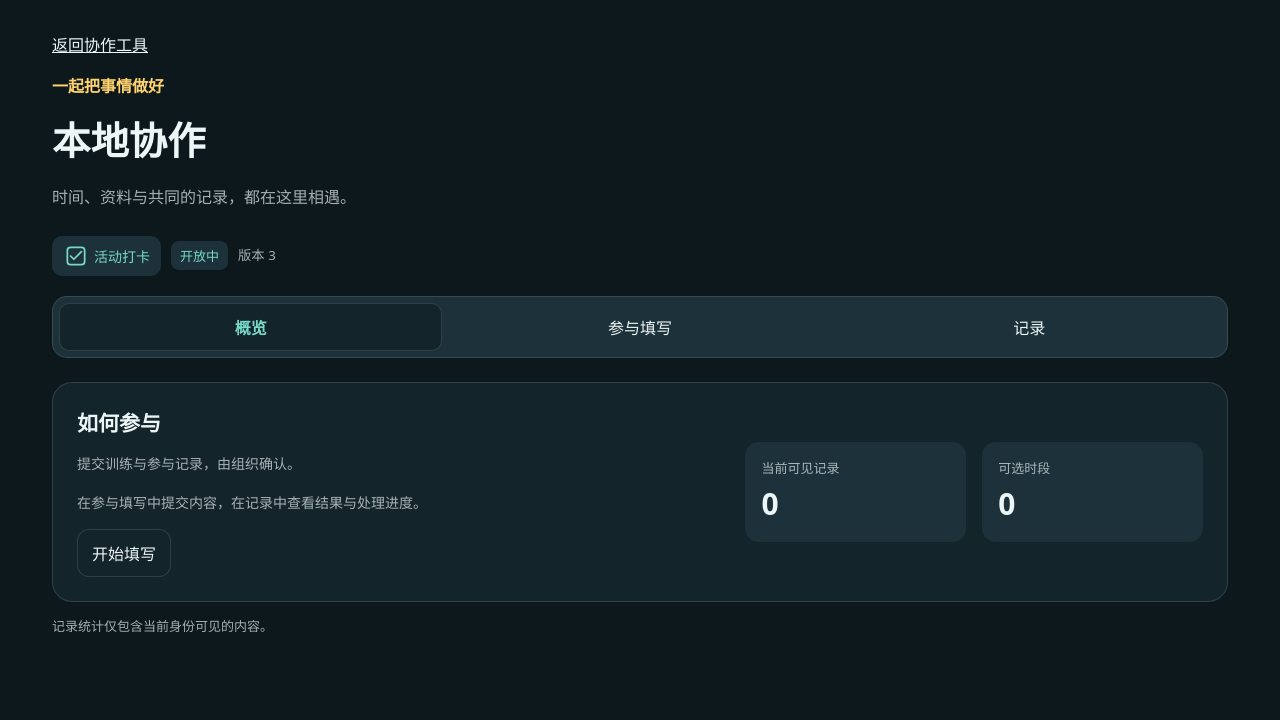
preserves participant draft across tabs and a failed submission, and keeps manager settings private
The width and height of the screenshot is (1280, 720).
Click the tab "参与填写": (640, 326) [448,302,832,350]
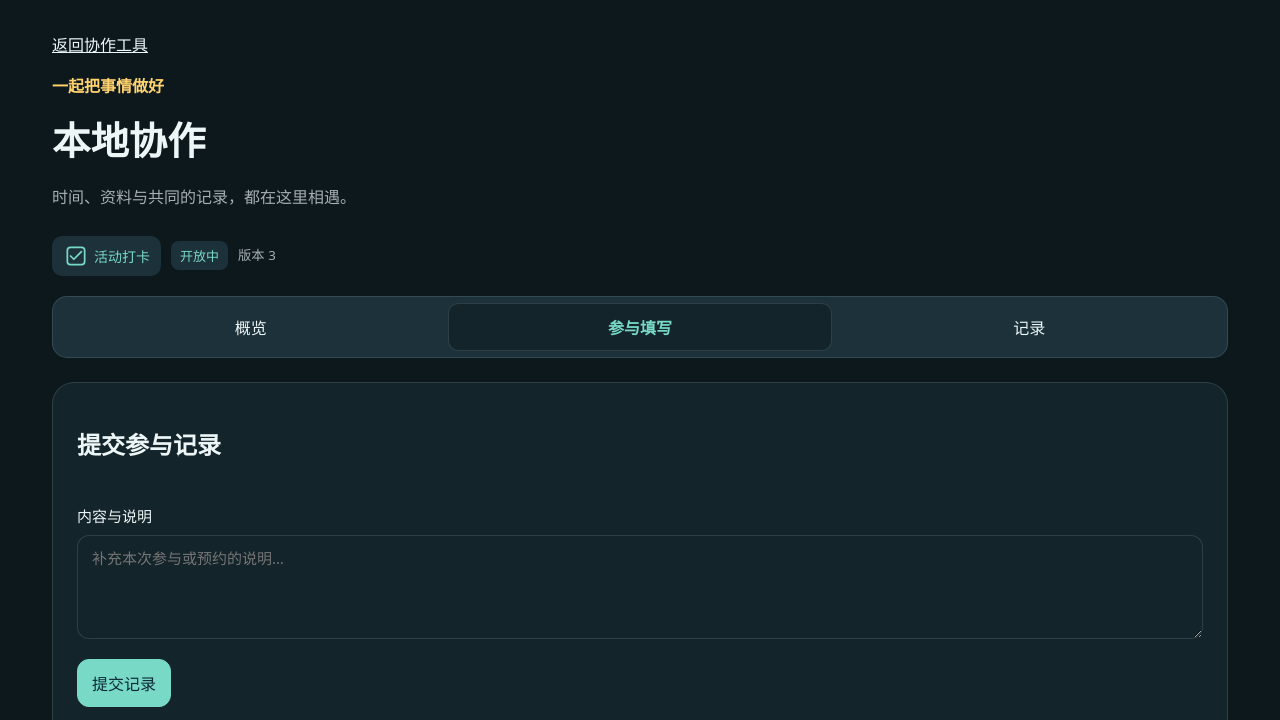
In the text box labelled "内容与说明": (640, 587) [77,535,1203,639], type "还未提交的草稿"
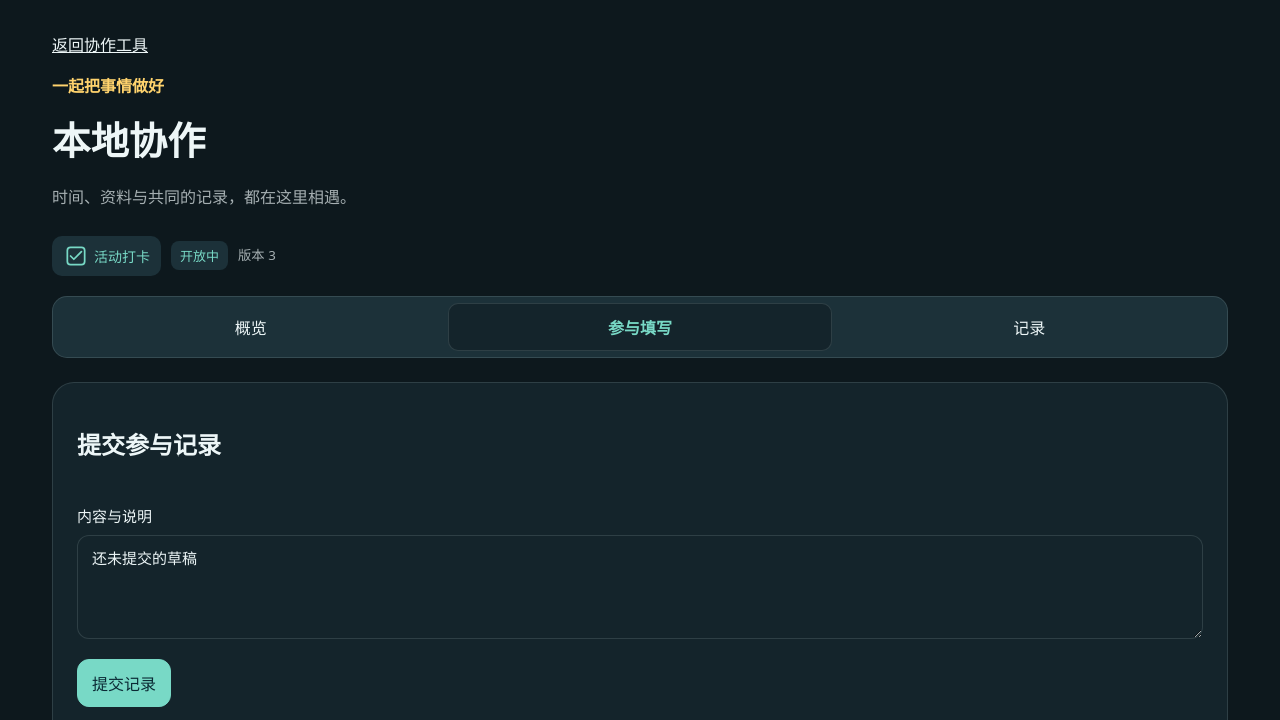
Click the tab "记录": (1029, 326) [838,302,1221,350]
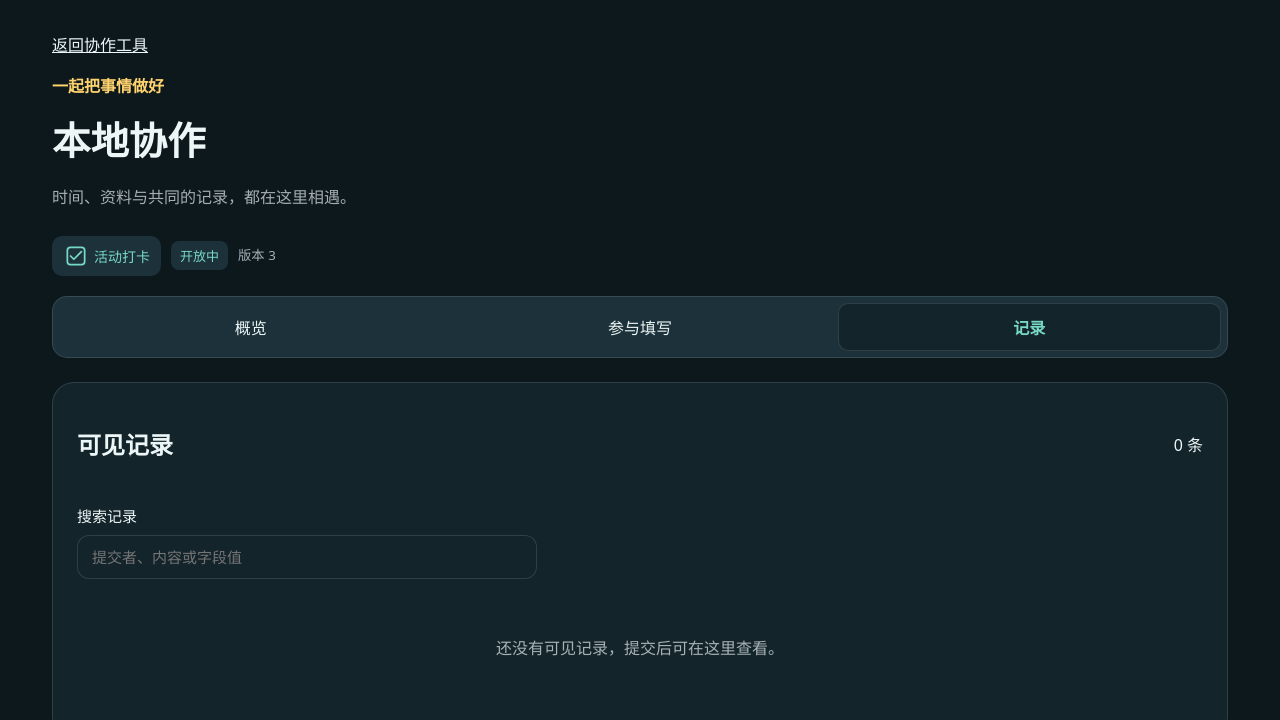
Click the tab "参与填写": (640, 326) [448,302,832,350]
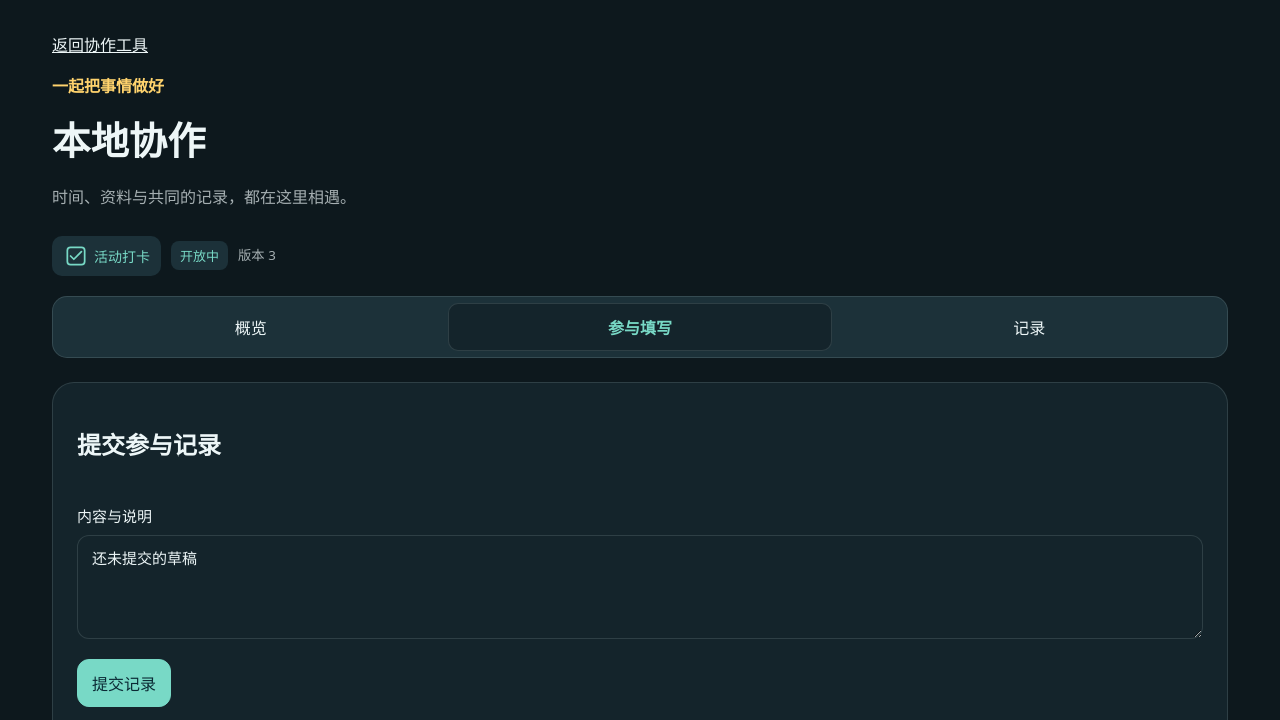
Click the button "提交记录": (124, 683) [77,659,171,707]
(page scrolled)
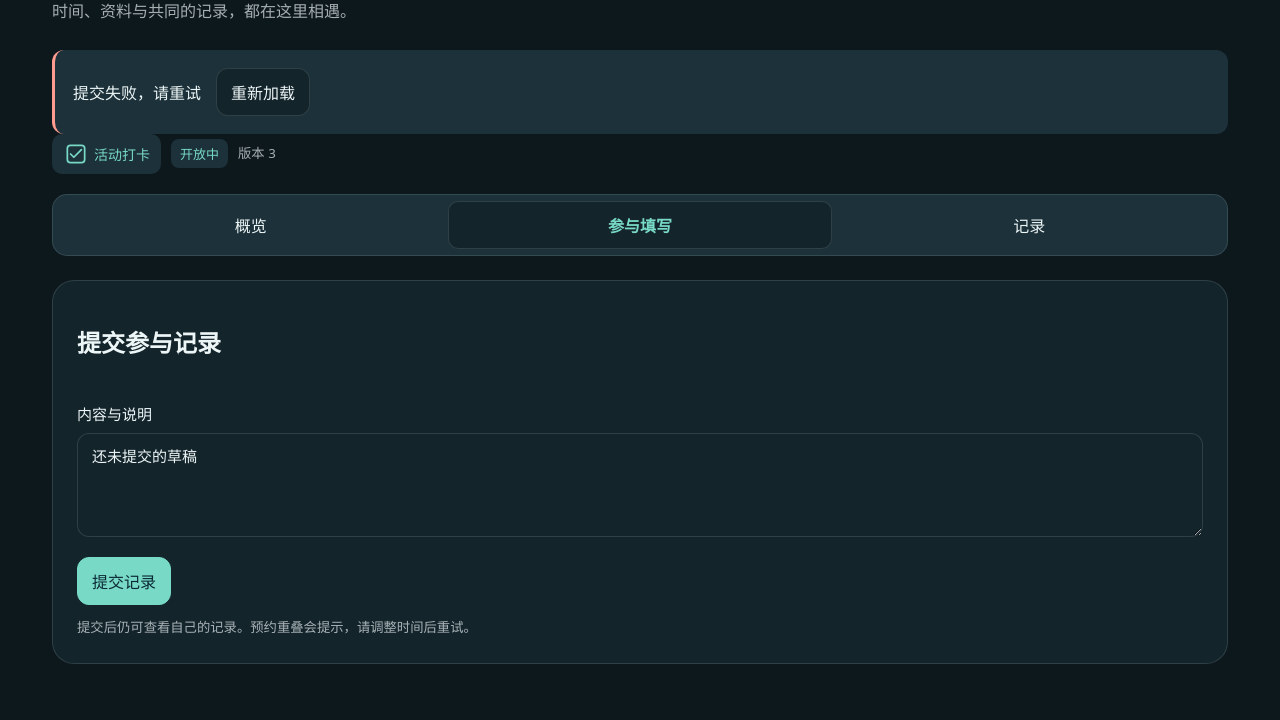
Now the text "提交失败，请重试" is shown, box [73,82,201,104]
